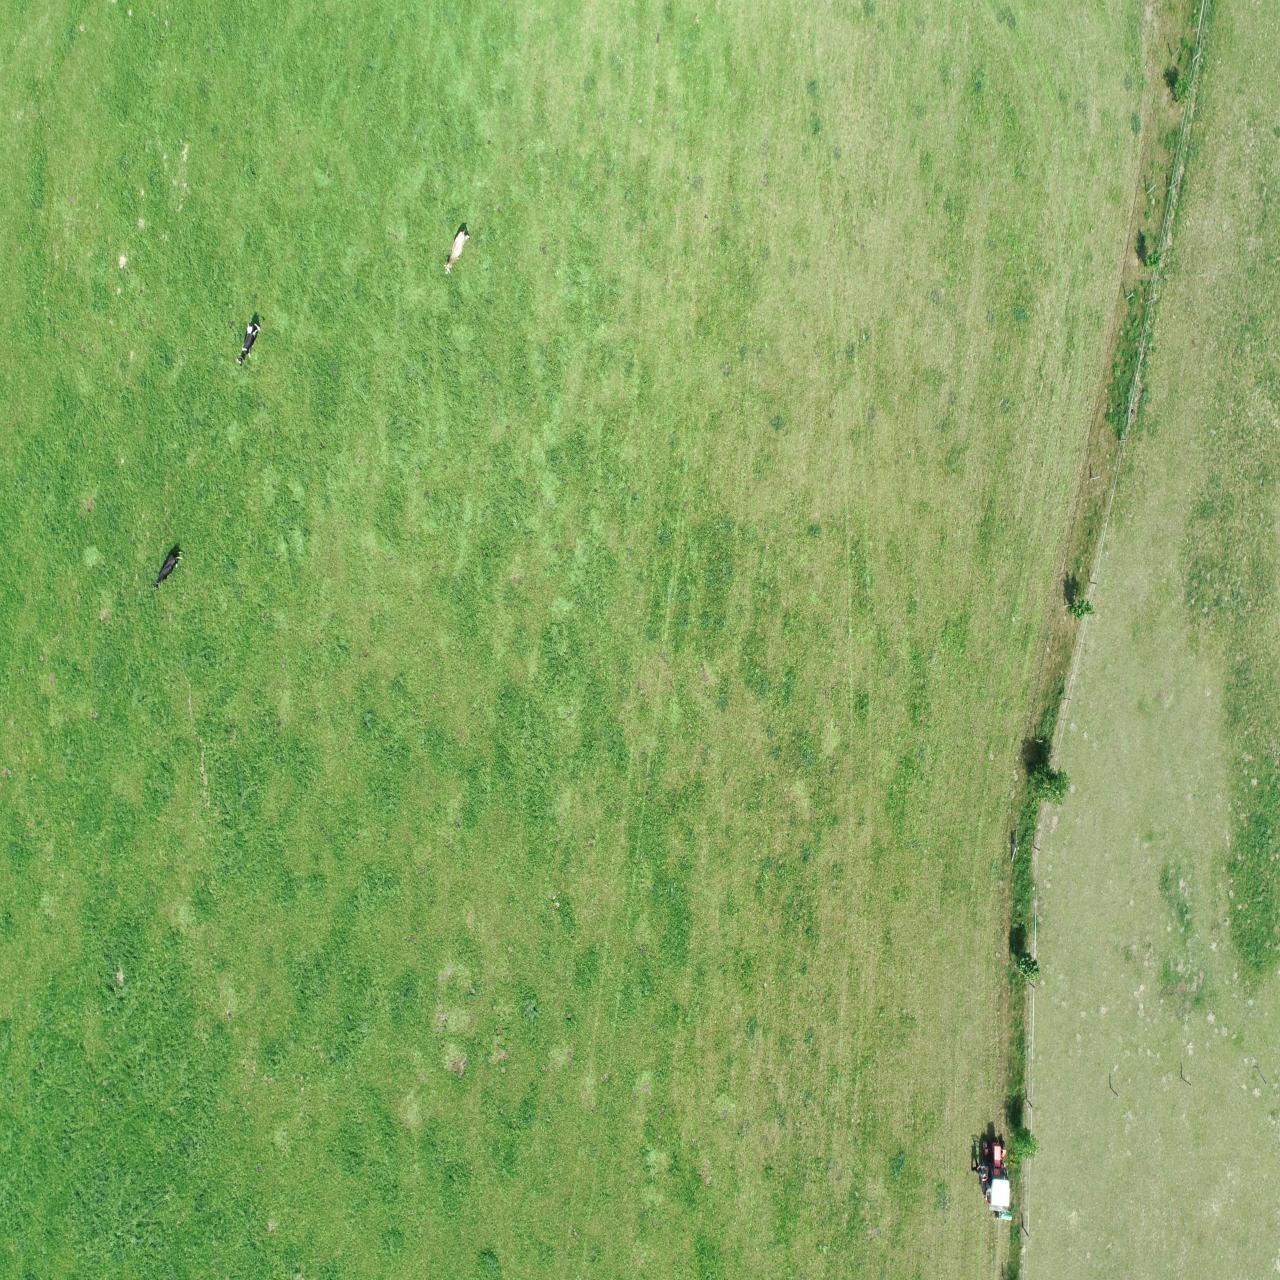cow: (149, 543, 188, 592), (441, 223, 471, 278), (233, 319, 263, 372)
